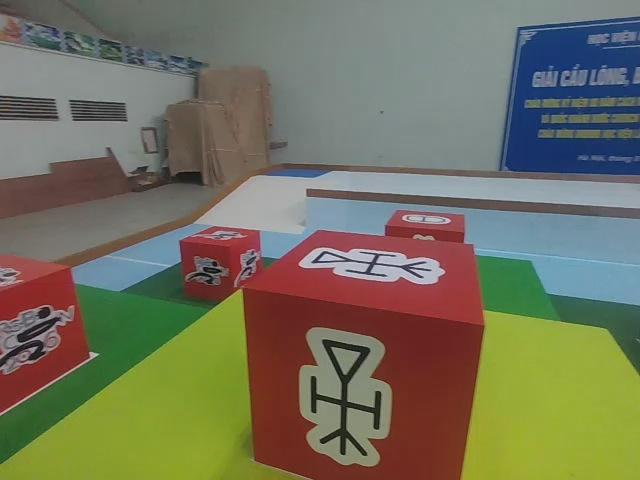R1: (0, 253, 87, 424), (177, 223, 266, 303)
R2 Real: (240, 227, 487, 480)
